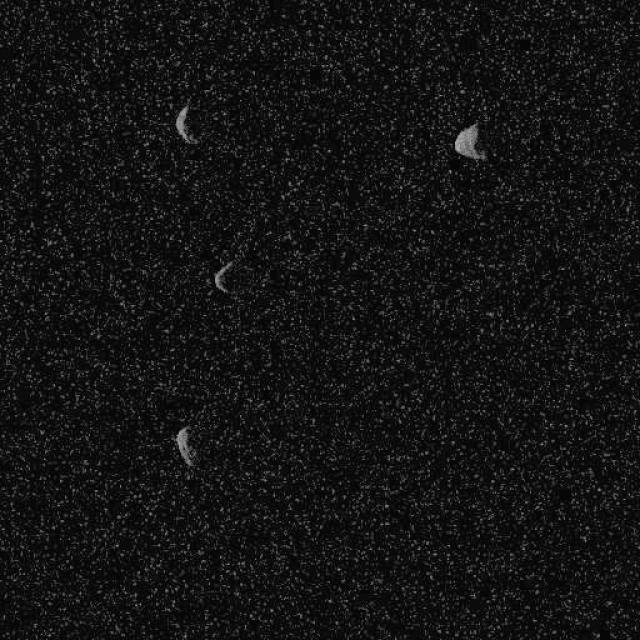D2: (452, 120, 487, 161), (174, 104, 198, 144), (174, 424, 196, 466), (212, 258, 234, 294)
